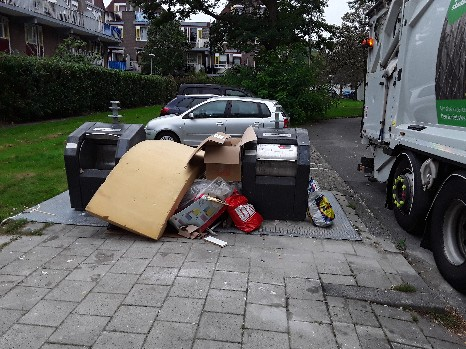Container: (244, 133, 317, 222), (81, 120, 123, 220)
Papier: (202, 137, 243, 179)
Rest: (125, 138, 185, 247), (196, 178, 253, 233)
Voertuig: (378, 12, 466, 268), (179, 95, 295, 142), (185, 80, 245, 116)
